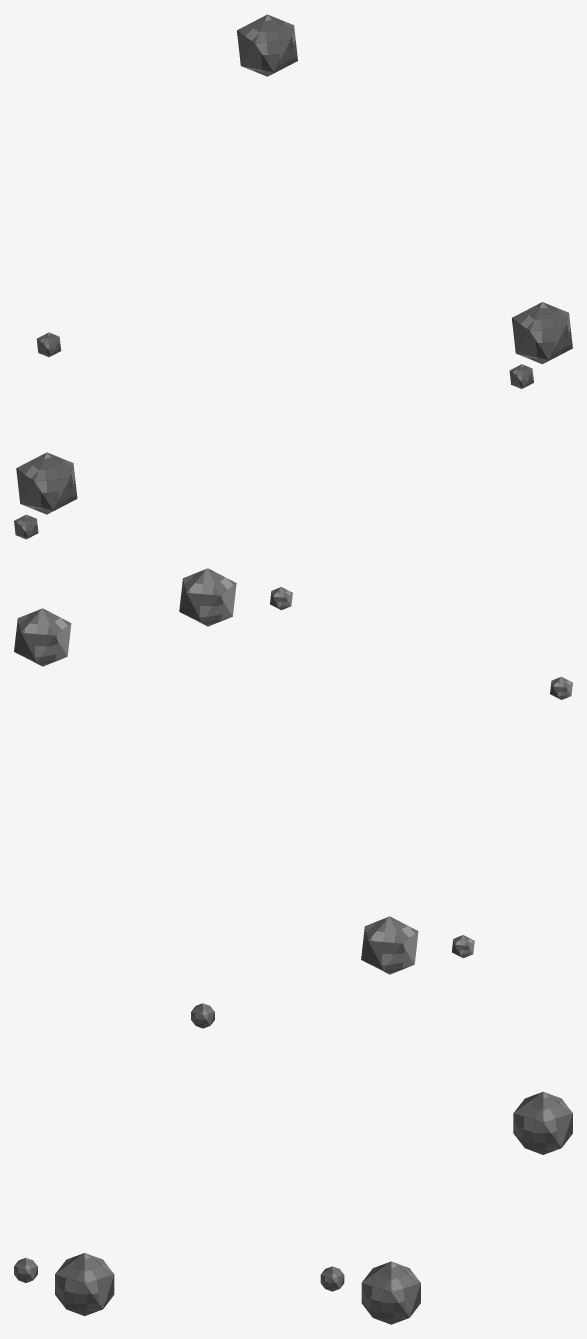
Rendered from rocks_Map_bonkers.glb.
The picture shows the model from 3 angles, top to bottom: view 1: azimuth 30°, elevation 25°; view 2: azimuth 150°, elevation 25°; view 3: azimuth 270°, elevation 25°; orthographic projection. The views are drawn at different scales.
Visible parts, largest first — view 1: Rock; view 2: Rock; view 3: Rock.
Boxes of the visible parts, x1=… form: Rock: x1=14, y1=14, x2=572, y2=539; Rock: x1=14, y1=568, x2=572, y2=974; Rock: x1=14, y1=1003, x2=572, y2=1324.
Size of the model in its own units: 29.68 by 22.41 by 29.91.
Materials: 1 (1 with a texture image).
